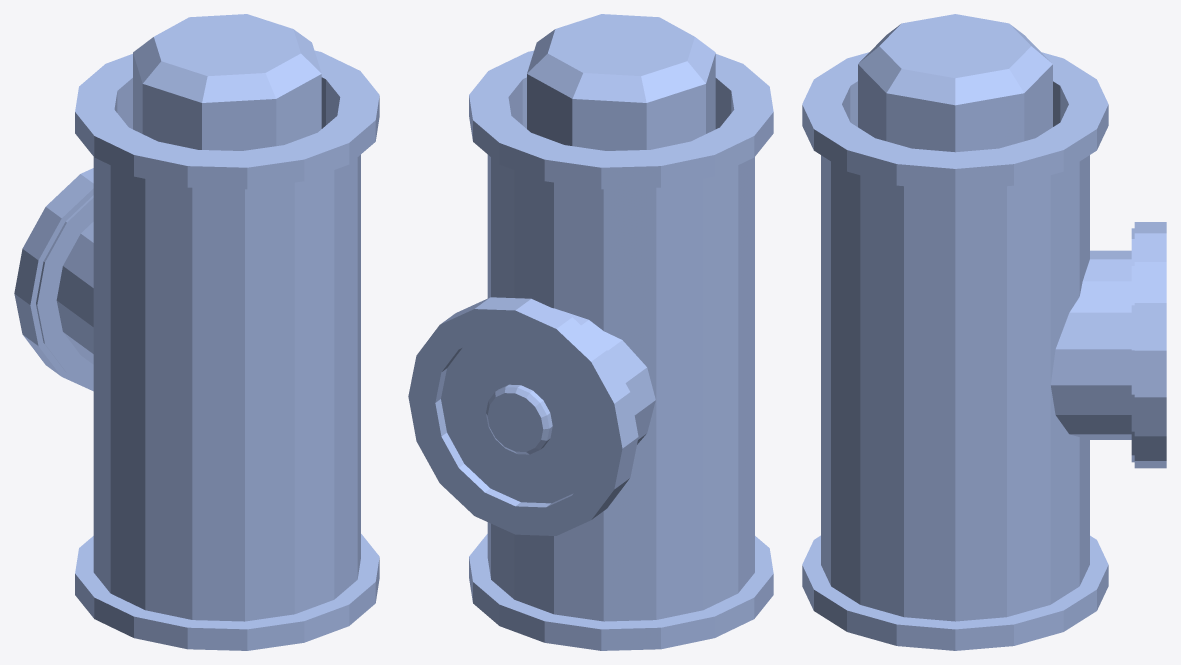
Rendered from Pipeline_online.fbx.
The picture shows the model from 3 angles, left to right: view 1: azimuth 30°, elevation 25°; view 2: azimuth 150°, elevation 25°; view 3: azimuth 270°, elevation 25°; orthographic projection.
Visible parts, largest first — view 1: 柱体.039, 柱体.040; view 2: 柱体.039, 柱体.040; view 3: 柱体.039, 柱体.040.
Part boxes in pixels (x1=…): 柱体.039: x1=75, y1=14, x2=379, y2=650; 柱体.040: x1=14, y1=168, x2=93, y2=391; 柱体.039: x1=469, y1=14, x2=773, y2=650; 柱体.040: x1=408, y1=297, x2=655, y2=535; 柱体.039: x1=802, y1=14, x2=1108, y2=650; 柱体.040: x1=1050, y1=222, x2=1166, y2=468.
Size of the model in its own units: 228 by 271 by 443.
